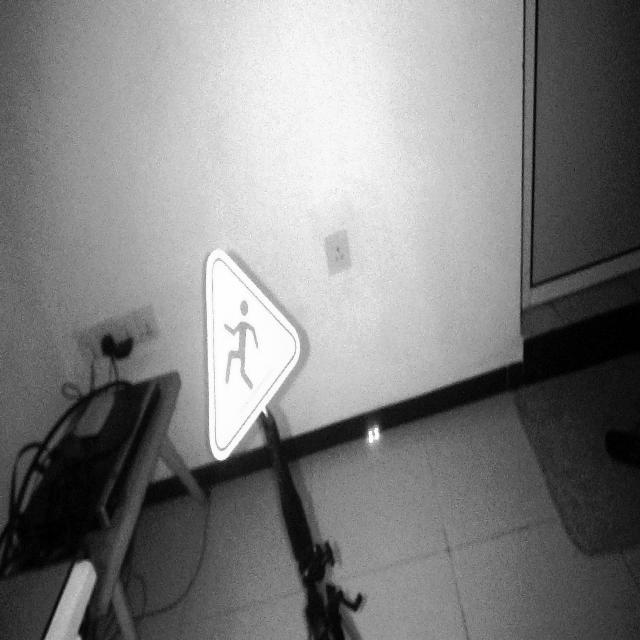Sign: (205, 246, 302, 464)
